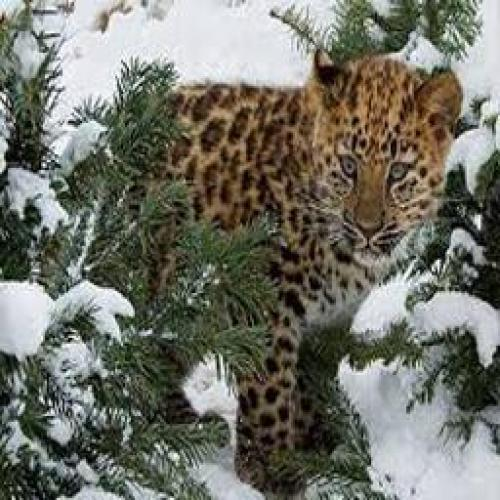amur_leopard-endangered: (164, 45, 464, 484)
